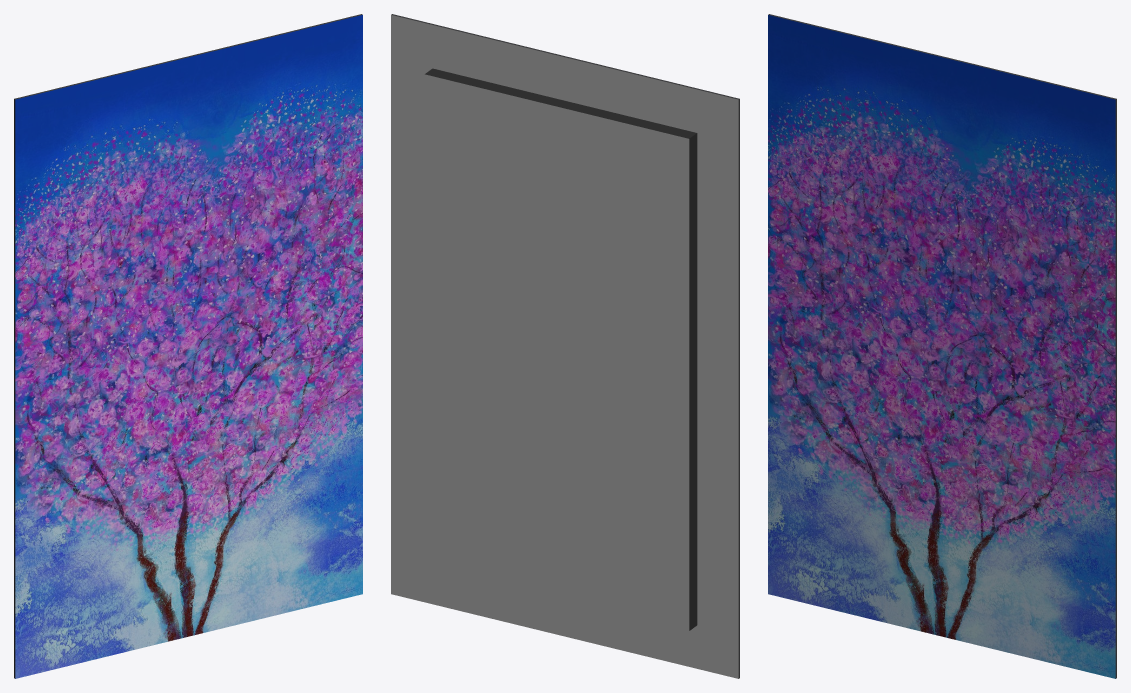
Rendered from os002_moyen_dibond.glb.
3 views of the same model, side by side, from view 1: azimuth 30°, elevation 25°; view 2: azimuth 150°, elevation 25°; view 3: azimuth 330°, elevation 25° (orthographic).
Visible parts, largest first — view 1: os002_moyen_dibond; view 2: os002_moyen_dibond; view 3: os002_moyen_dibond.
Boxes of the visible parts, x1,y1,x2,y2 form: os002_moyen_dibond: (14,14,362,678); os002_moyen_dibond: (391,14,739,678); os002_moyen_dibond: (768,14,1116,678).
Bounding box in the file's own units: 0.5024 × 0.8 × 0.023.
Materials: 4 (1 with a texture image).
